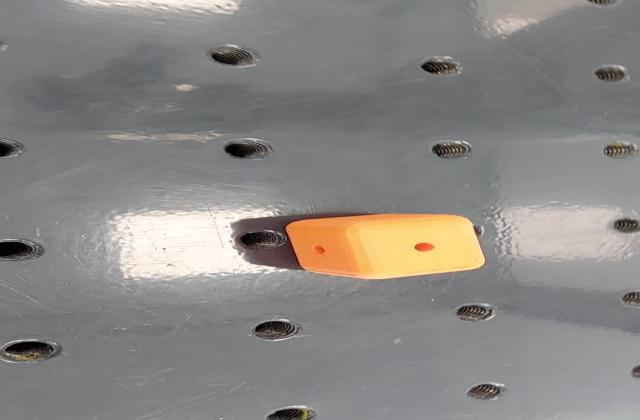cube: (276, 210, 490, 282)
